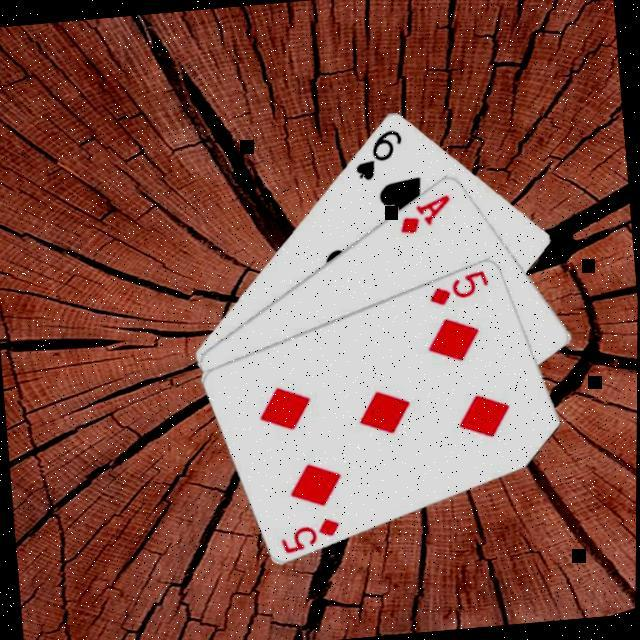5D: (275, 514, 344, 558), (423, 267, 491, 311)
6S: (346, 126, 406, 186)
AD: (392, 192, 453, 238)
